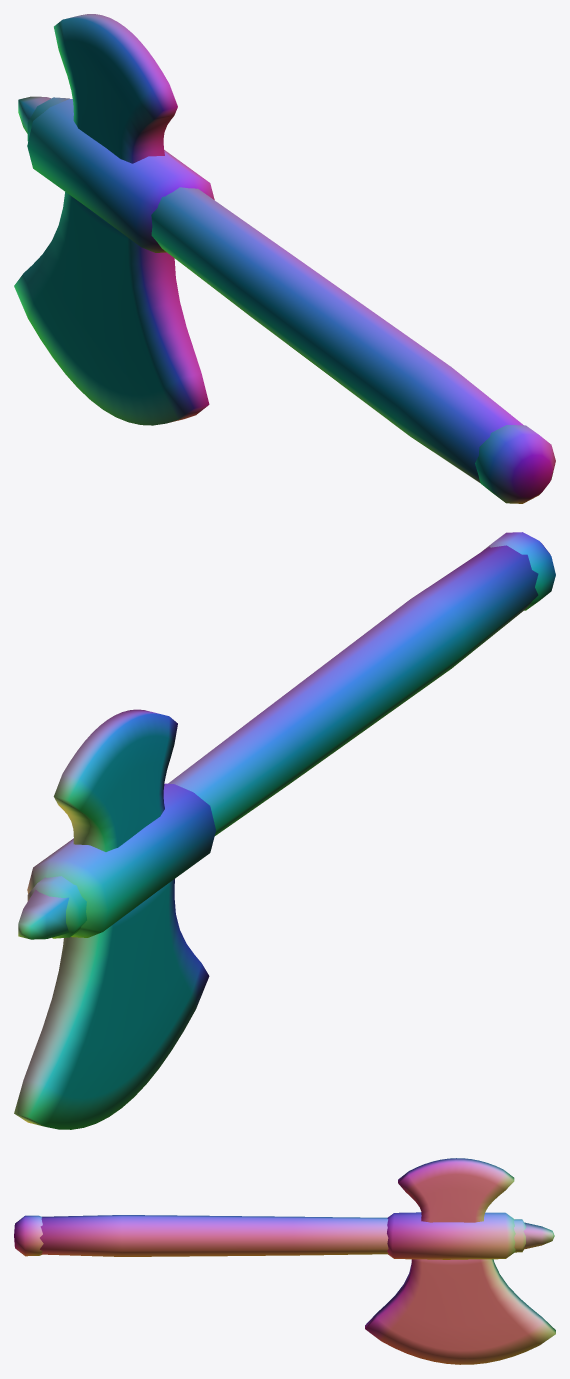
The model's file is SM_Weapon_Axe.fbx.
The picture shows the model from 3 angles, top to bottom: view 1: azimuth 30°, elevation 25°; view 2: azimuth 150°, elevation 25°; view 3: azimuth 270°, elevation 25°; orthographic projection. The views are drawn at different scales.
Visible parts, largest first — view 1: SM_Weapon_Axe; view 2: SM_Weapon_Axe; view 3: SM_Weapon_Axe.
Boxes of the visible parts, bbox=[...] form: SM_Weapon_Axe: bbox=[14, 14, 555, 503]; SM_Weapon_Axe: bbox=[14, 532, 555, 1129]; SM_Weapon_Axe: bbox=[14, 1158, 555, 1364].
Size of the model in its own units: 0.09 by 0.4048 by 0.9843.
